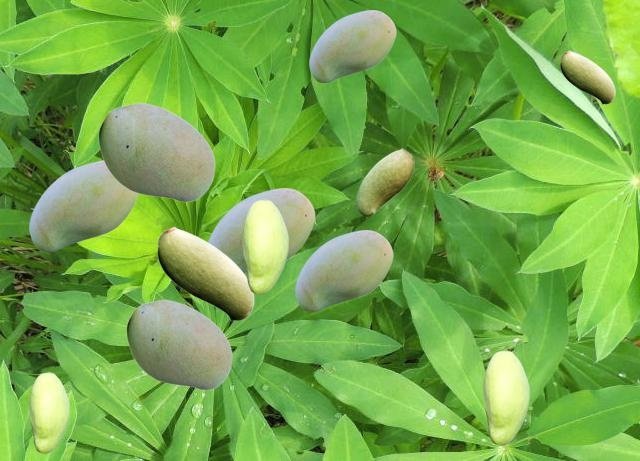green_mango: (98, 102, 214, 201), (29, 160, 138, 250), (126, 299, 231, 389), (157, 226, 253, 320), (208, 188, 314, 272), (295, 230, 392, 310), (309, 10, 395, 81), (483, 350, 528, 444), (242, 199, 287, 293), (356, 148, 413, 215), (29, 372, 68, 452), (560, 50, 614, 103)
